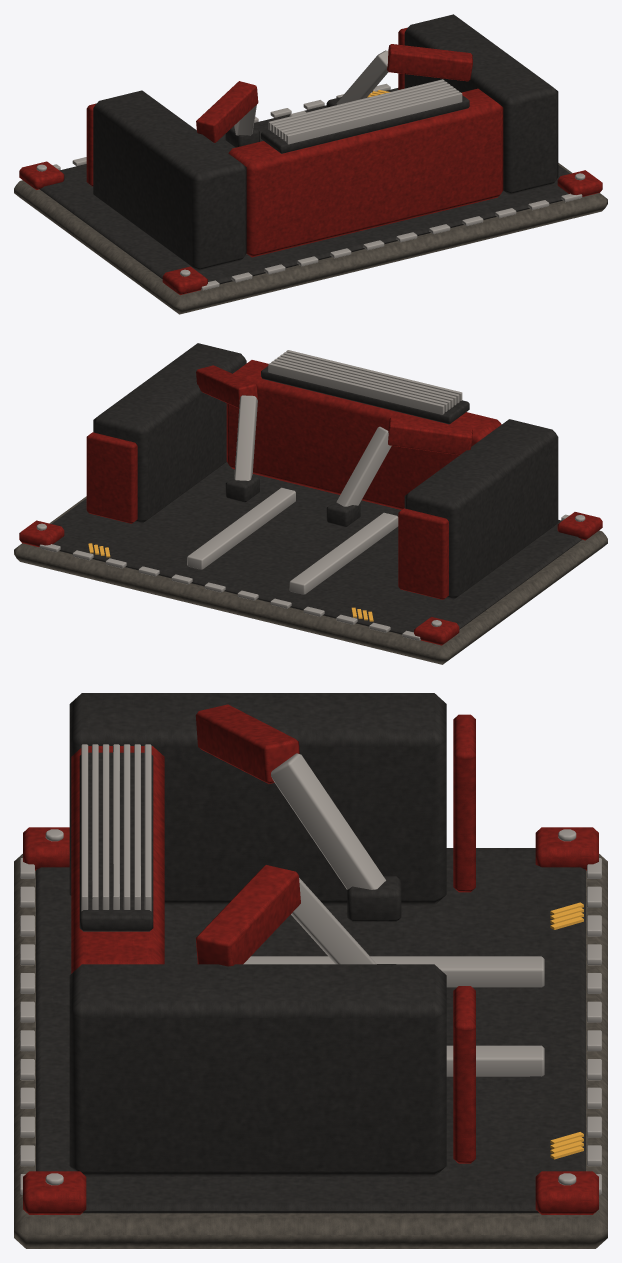
The model's file is kharn_garage_de_campagne.gltf.
The picture shows the model from 3 angles, top to bottom: view 1: azimuth 30°, elevation 25°; view 2: azimuth 150°, elevation 25°; view 3: azimuth 270°, elevation 25°; orthographic projection. The views are drawn at different scales.
Visible parts, largest first — view 1: Root.010_Geometry, Arm_1_Geometry, Arm_-1_Geometry; view 2: Root.010_Geometry, Arm_-1_Geometry, Arm_1_Geometry; view 3: Root.010_Geometry, Arm_-1_Geometry, Arm_1_Geometry.
Part boxes in pixels (x1=…): Root.010_Geometry: x1=14, y1=14, x2=607, y2=314; Arm_1_Geometry: x1=326, y1=44, x2=472, y2=107; Arm_-1_Geometry: x1=196, y1=81, x2=259, y2=147; Root.010_Geometry: x1=14, y1=343, x2=607, y2=664; Arm_-1_Geometry: x1=326, y1=417, x2=472, y2=527; Arm_1_Geometry: x1=196, y1=365, x2=259, y2=502; Root.010_Geometry: x1=14, y1=693, x2=607, y2=1248; Arm_-1_Geometry: x1=195, y1=704, x2=401, y2=922; Arm_1_Geometry: x1=195, y1=865, x2=395, y2=966.
Size of the model in its own units: 5.94 by 1.9 by 3.94.
Materials: 5 (3 with a texture image).
